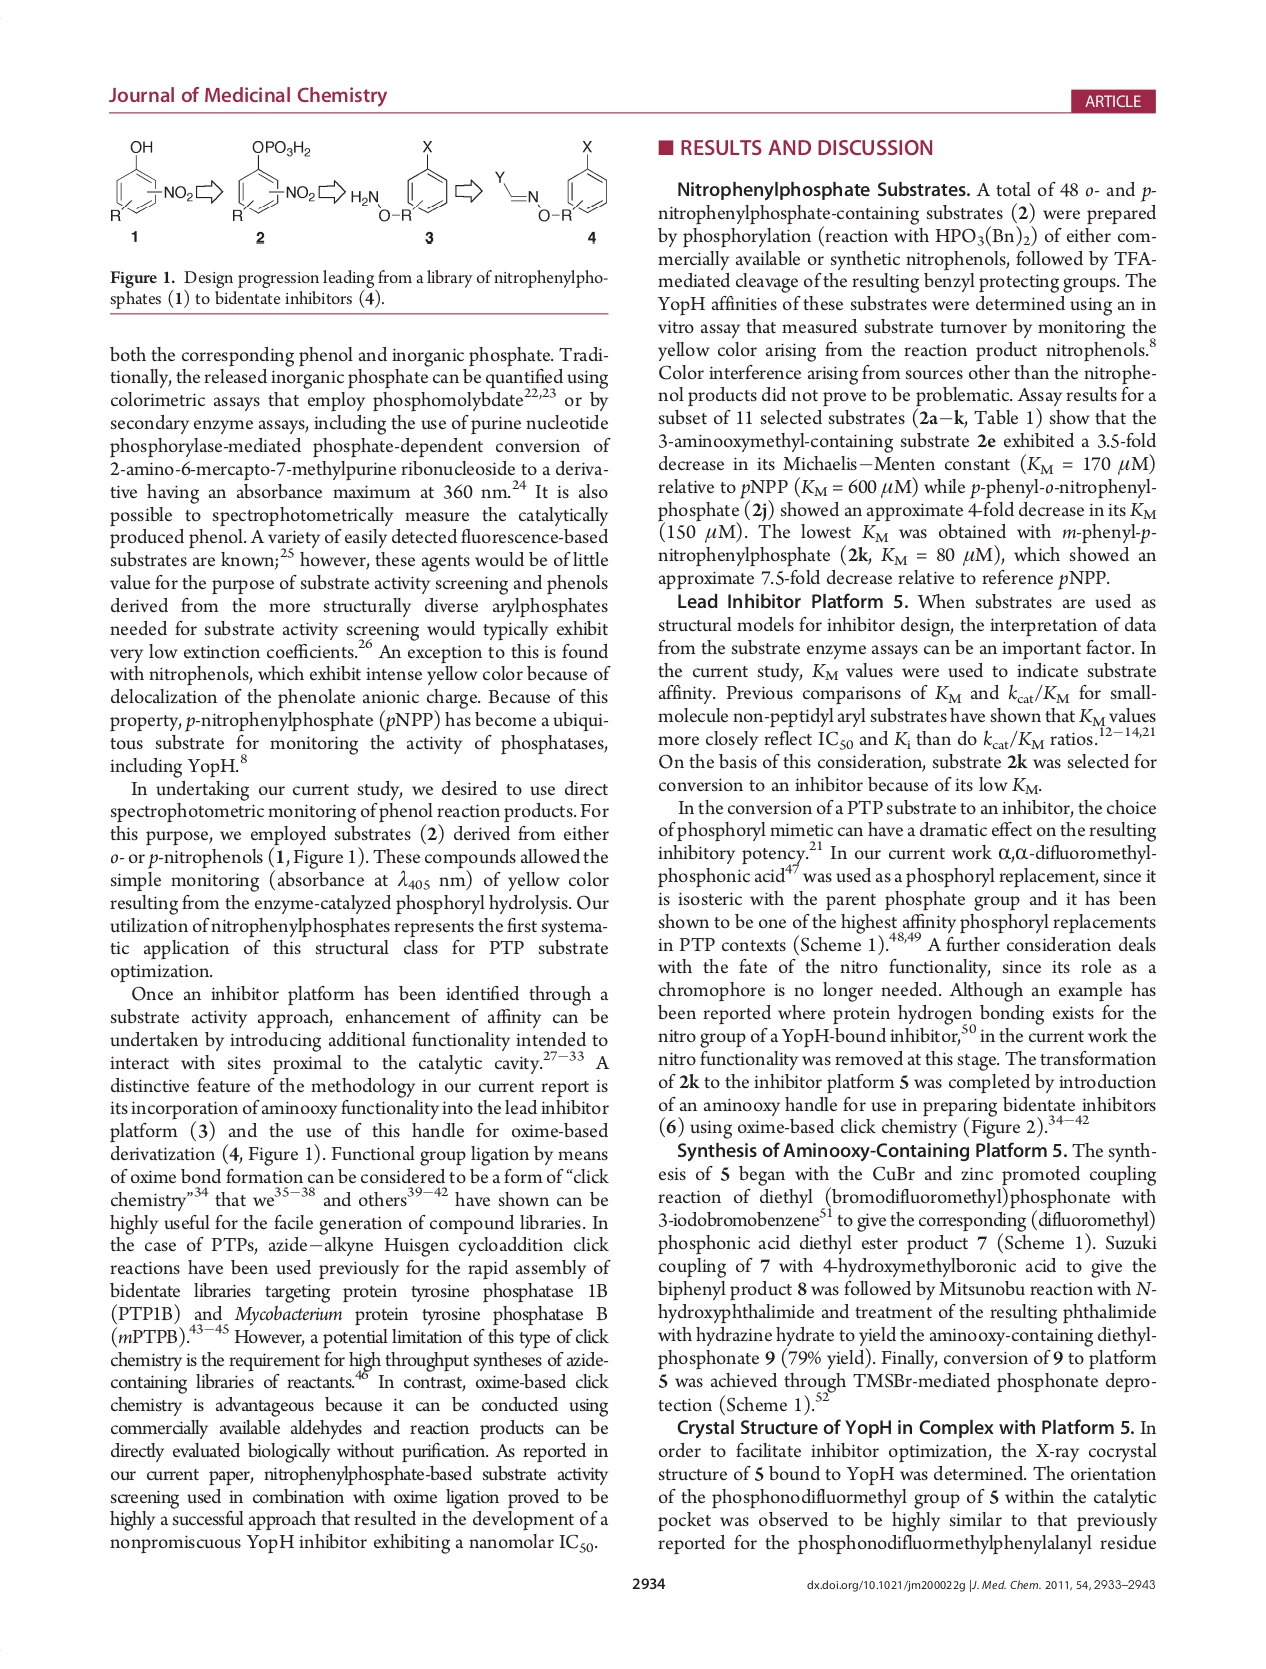exist_molecular: (488, 132, 610, 227), (346, 130, 452, 226), (226, 130, 316, 222), (98, 137, 194, 222)
